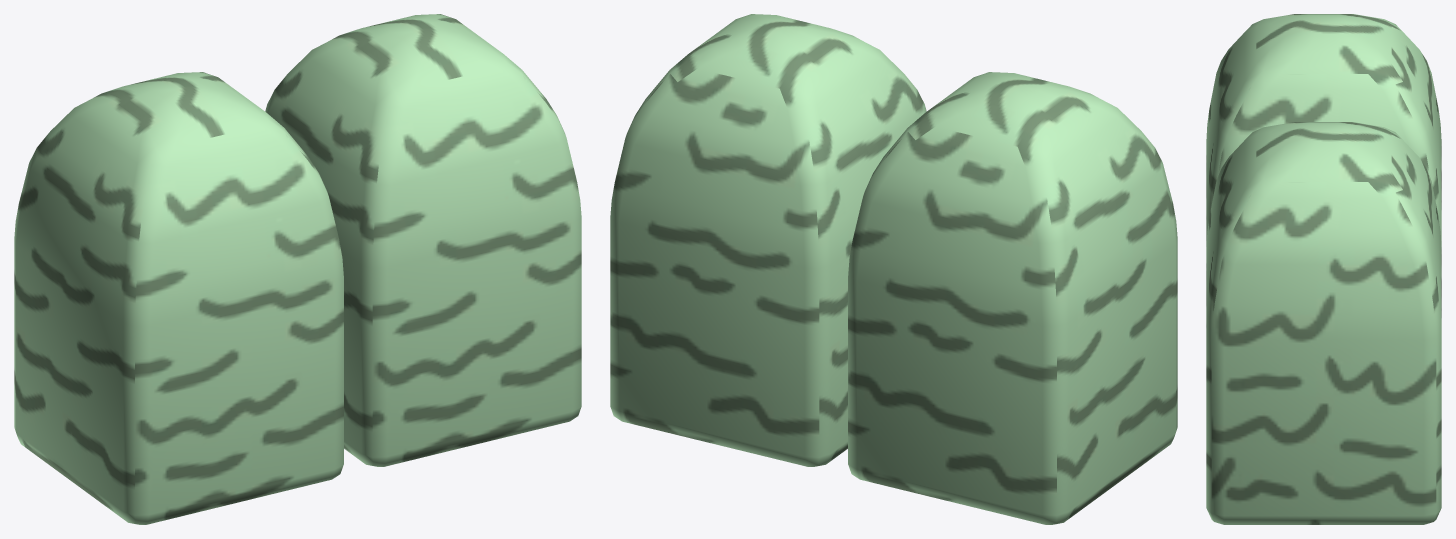
The model's file is item-earbuds.glb.
The picture shows the model from 3 angles, left to right: view 1: azimuth 30°, elevation 25°; view 2: azimuth 150°, elevation 25°; view 3: azimuth 270°, elevation 25°; orthographic projection. The views are drawn at different scales.
Bounding box in the file's own units: 0.1017 × 0.08 × 0.0487.
1 material, 1 textured.
